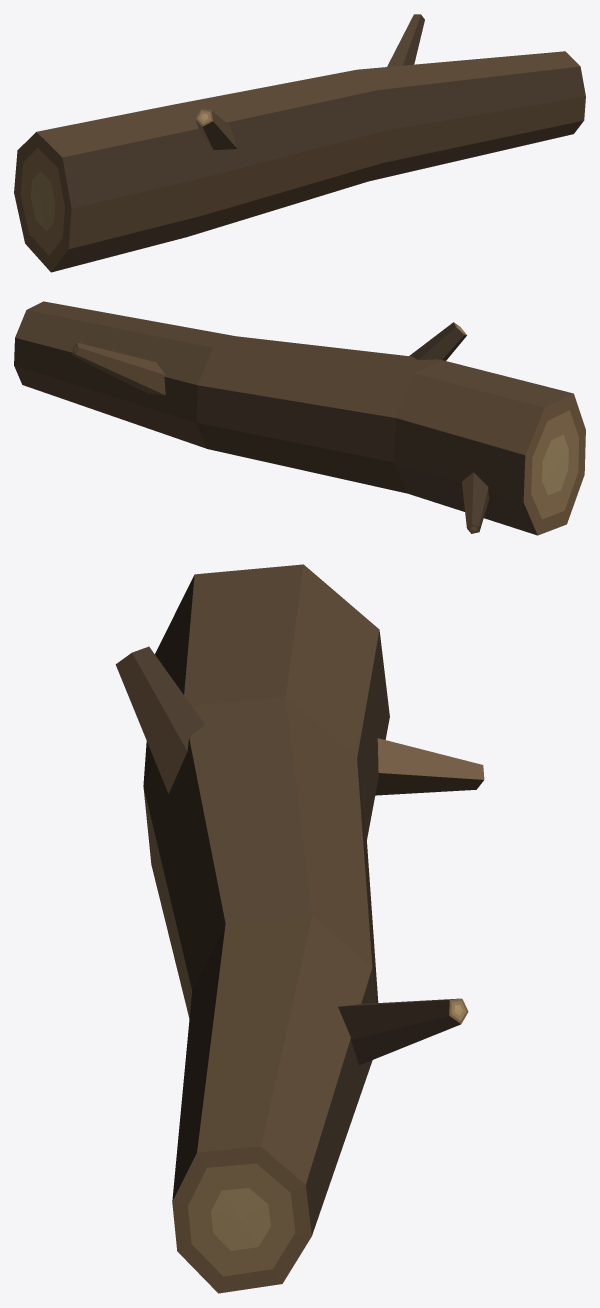
Rendered from Fallen_Log.obj.
3 renders of one model, top to bottom at view 1: azimuth 30°, elevation 25°; view 2: azimuth 150°, elevation 25°; view 3: azimuth 270°, elevation 25°, orthographic. The views are drawn at different scales.
Visible parts, largest first — view 1: Fallen_Log; view 2: Fallen_Log; view 3: Fallen_Log.
Part boxes in pixels (x1,y1,x2,y2): Fallen_Log: [14, 14, 585, 272]; Fallen_Log: [14, 301, 585, 535]; Fallen_Log: [115, 564, 484, 1293].
Size of the model in its own units: 3.04 by 0.8175 by 0.9294.
1 material, 1 textured.
